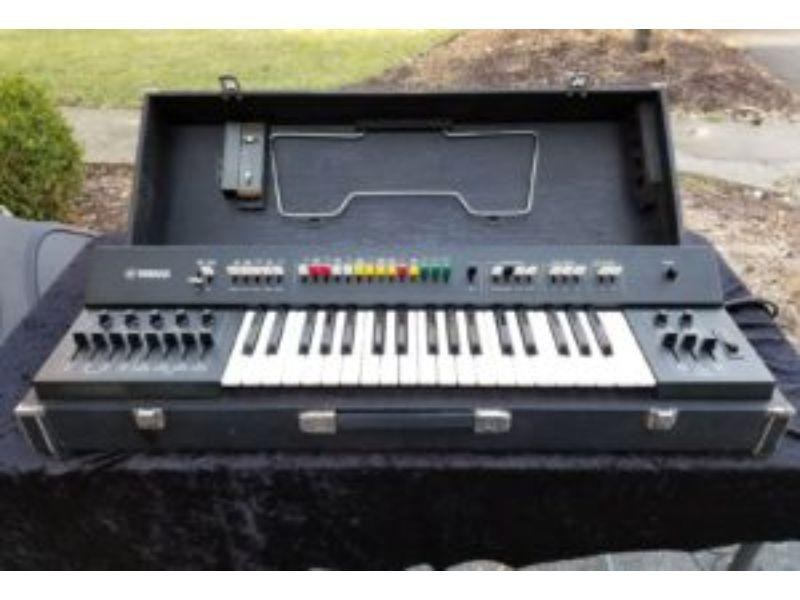synthesizer: (48, 239, 770, 401)
